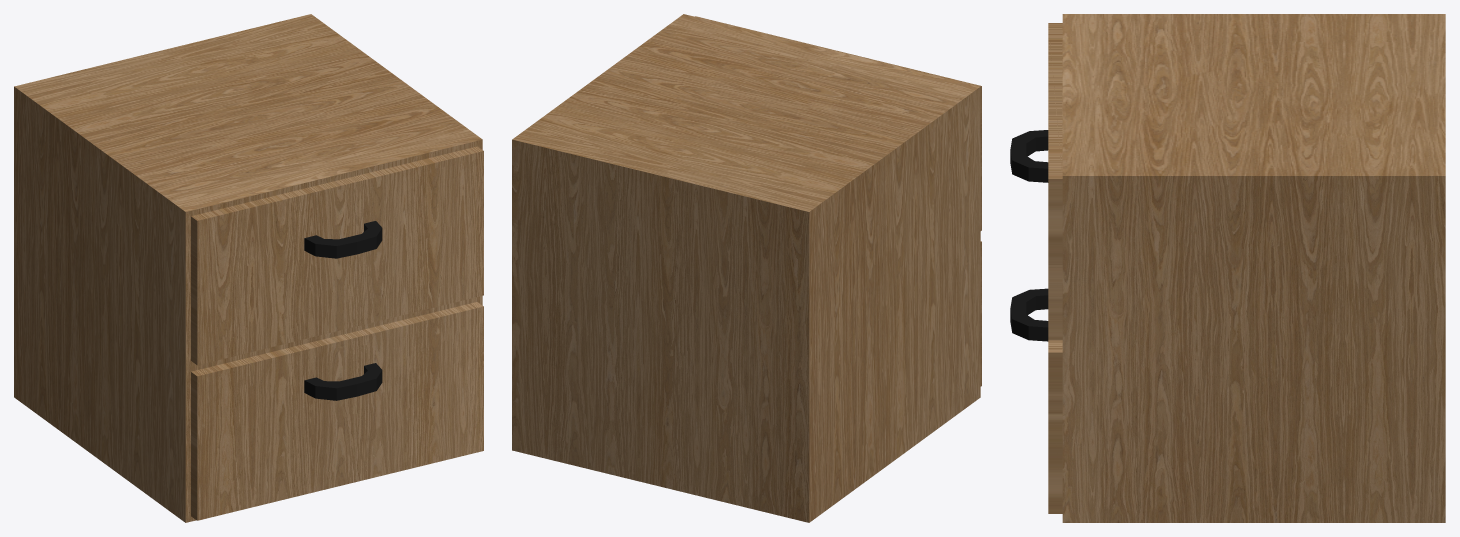
Rendered from Kärpänen_PieniLaatikko.fbx.
3 views of the same model, side by side, from view 1: azimuth 30°, elevation 25°; view 2: azimuth 150°, elevation 25°; view 3: azimuth 270°, elevation 25° (orthographic). The views are drawn at different scales.
Visible parts, largest first — view 1: Cube; view 2: Cube; view 3: Cube.
Boxes of the visible parts, box(x1,y1,x2,y2) form: Cube: box(14, 14, 483, 522); Cube: box(512, 14, 981, 522); Cube: box(1010, 14, 1445, 522).
Size of the model in its own units: 1200 by 1200 by 1363.
Materials: 2 (1 with a texture image).
